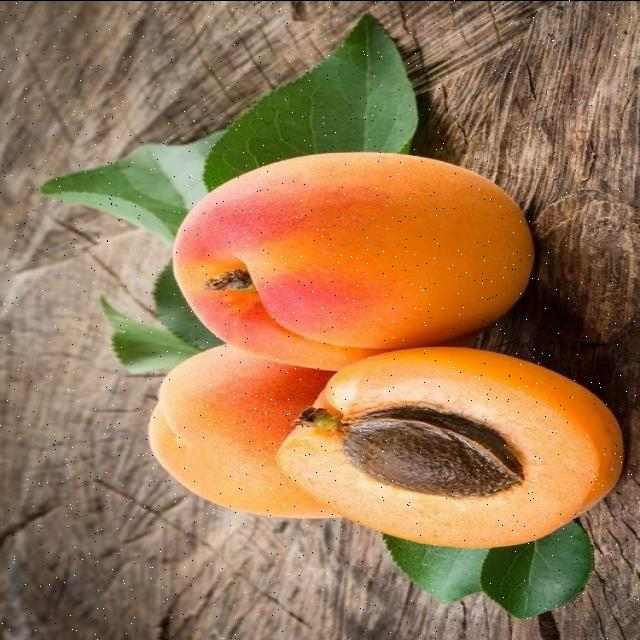Cekirdek: (341, 404, 523, 497)
Kayisi: (174, 152, 533, 369), (279, 347, 622, 547), (149, 344, 339, 516)
Yaprak: (202, 14, 418, 191)
